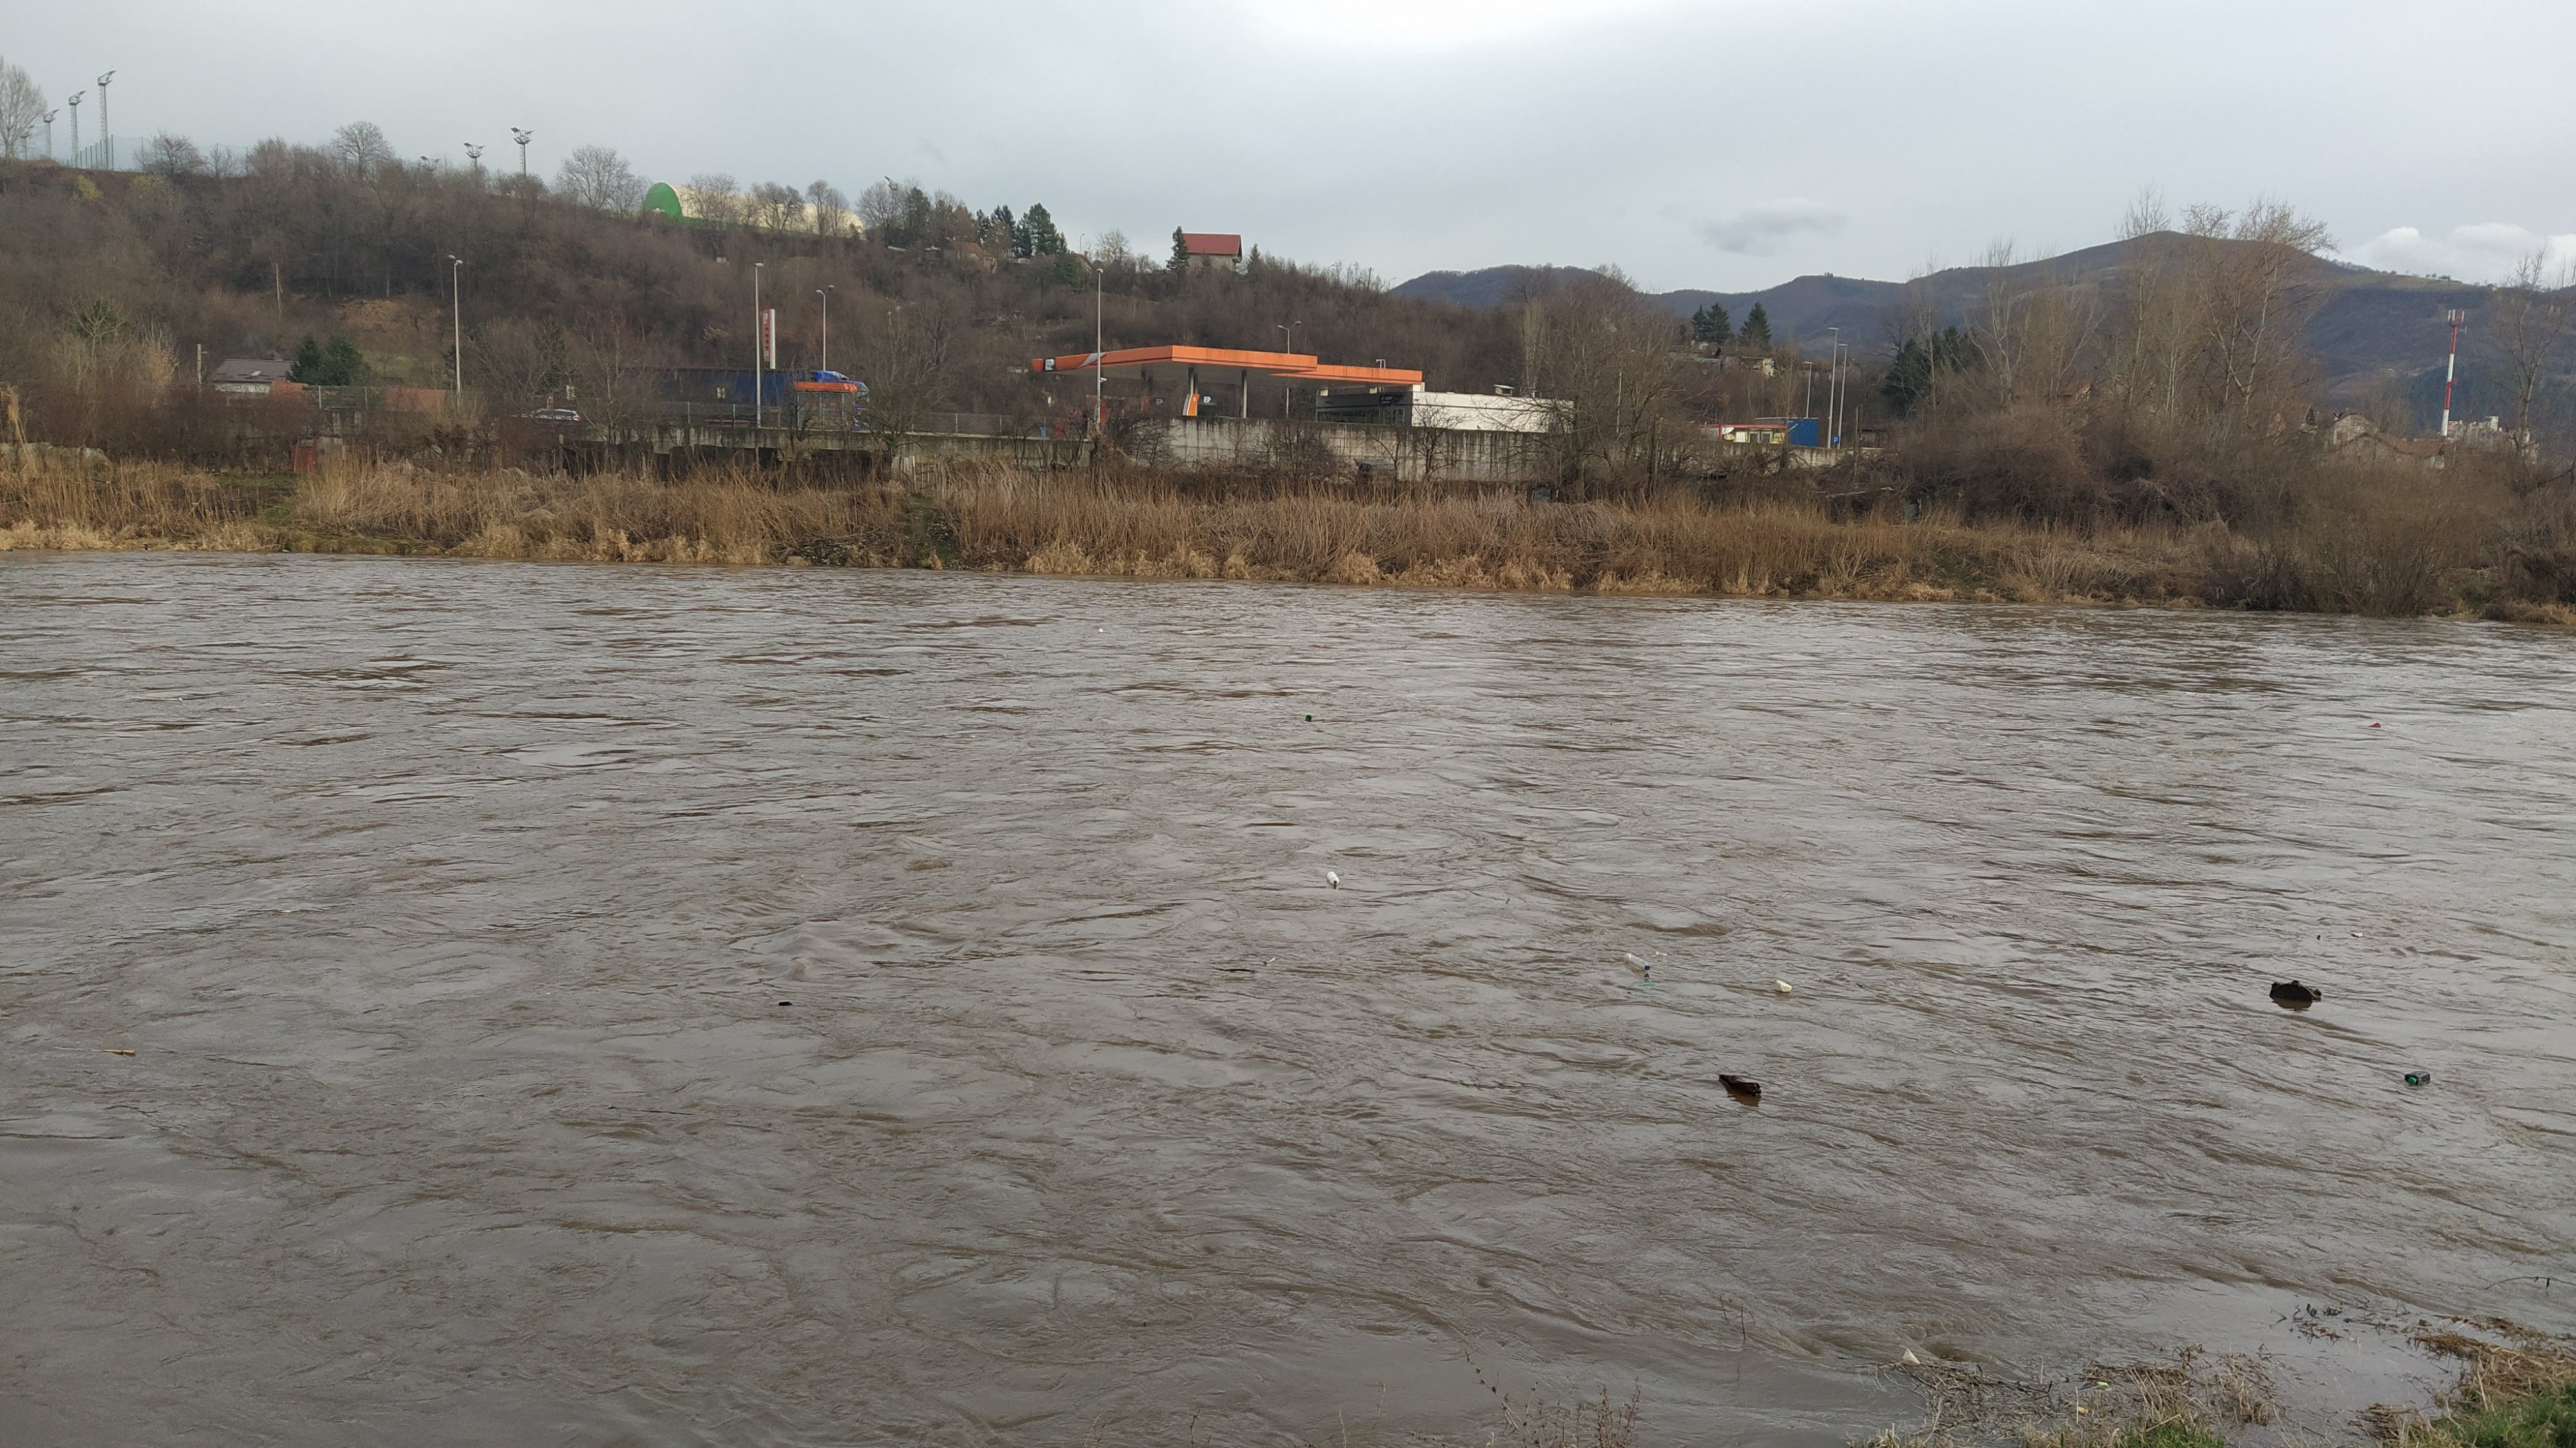Plastic Bottle: (1720, 1074, 1760, 1096), (1624, 952, 1649, 970), (2404, 1069, 2429, 1085), (1902, 1349, 1920, 1365), (1325, 873, 1339, 885), (778, 1000, 793, 1005), (2369, 722, 2380, 728), (1304, 715, 1311, 720)
